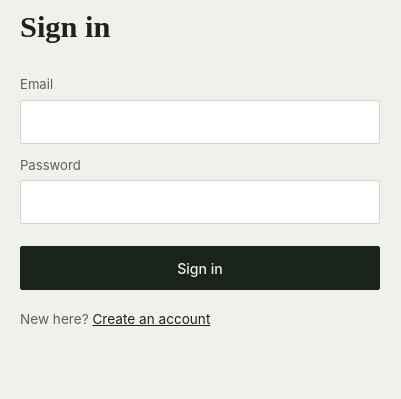
Scenario: LoginPage validation › rejects a submission with an email but no password
Type "thandi@example.test" into the field labelled "Email" at (200, 122), box [20,100,380,144]
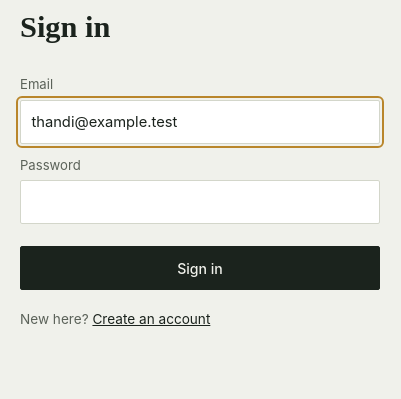
Click the button "Sign in" at (200, 268), box [20,246,380,290]
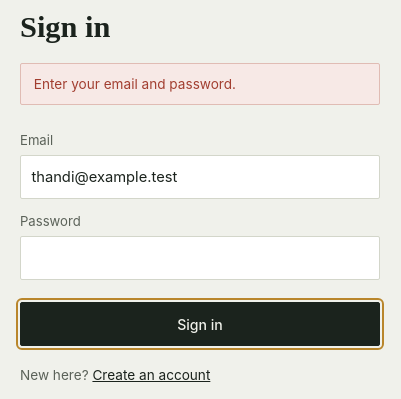
Expected: the message reads "Enter your email and password.", [34,76,236,92]
